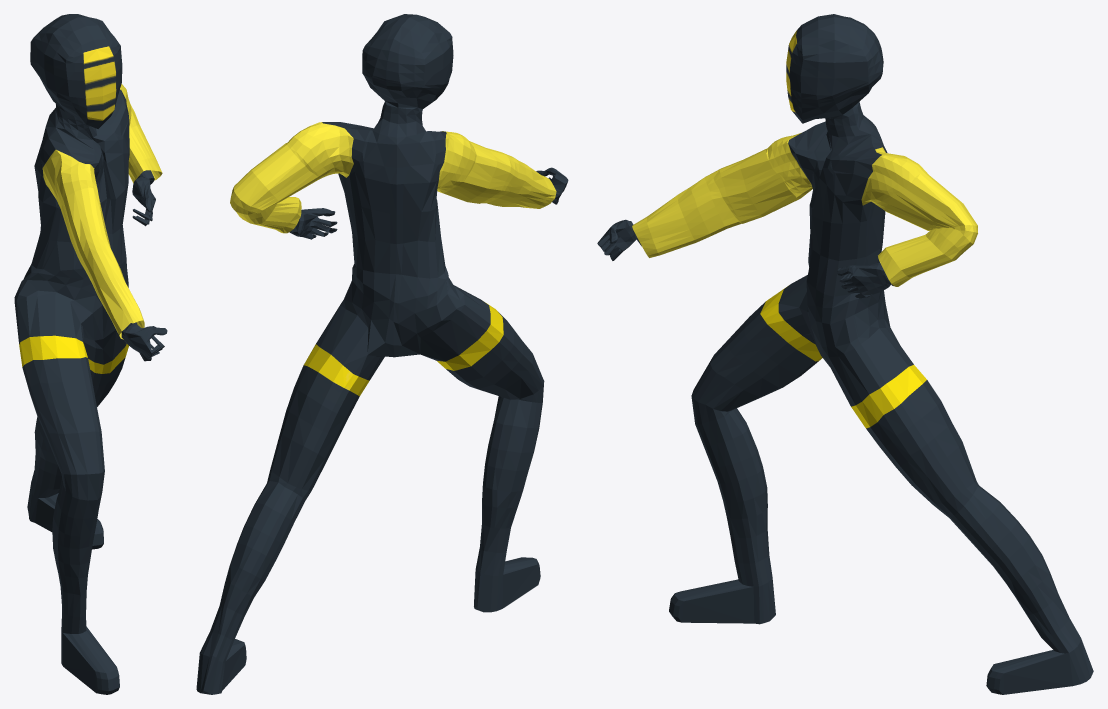
File: Sentry_WR_000013.obj
The picture shows the model from 3 angles, left to right: view 1: azimuth 30°, elevation 25°; view 2: azimuth 150°, elevation 25°; view 3: azimuth 270°, elevation 25°; orthographic projection. The views are drawn at different scales.
Visible parts, largest first — view 1: Cube; view 2: Cube; view 3: Cube.
Part boxes in pixels (left/top/right/bottom): Cube: left=14, top=14, right=167, bottom=694; Cube: left=196, top=14, right=568, bottom=694; Cube: left=597, top=14, right=1093, bottom=694.
Bounding box in the file's own units: 1.18 × 3.59 × 2.58.
